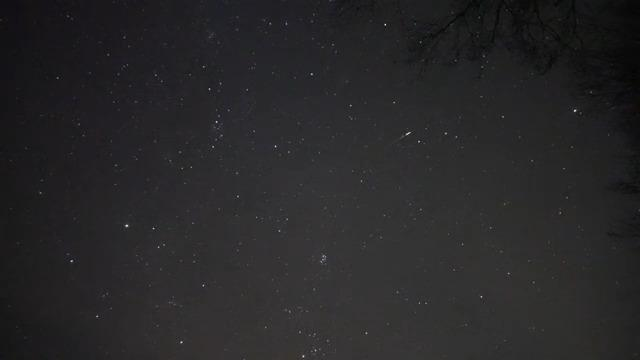meteorite: (385, 128, 421, 144)
